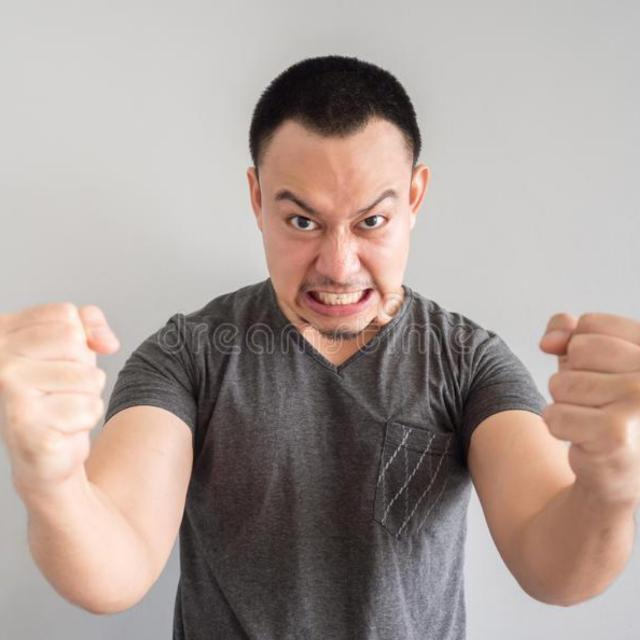Angry: (245, 78, 487, 375)
